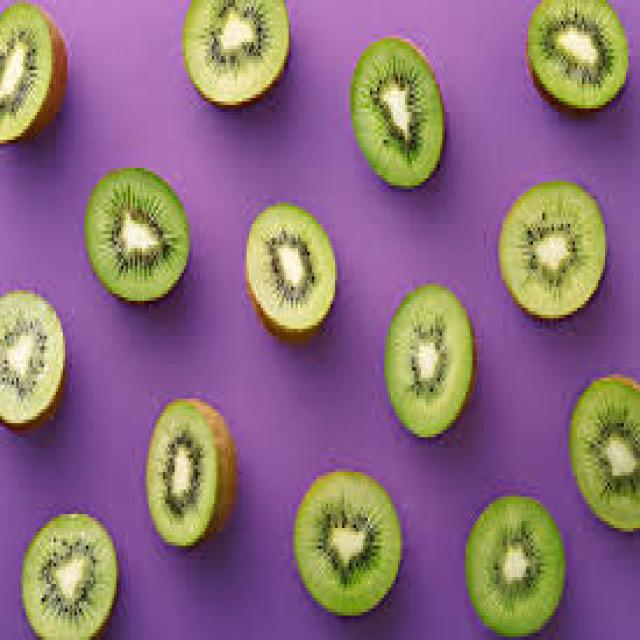kiwi: (288, 462, 409, 616), (347, 24, 449, 192), (142, 395, 247, 556), (84, 161, 202, 304), (461, 486, 570, 640), (498, 178, 610, 322), (242, 196, 342, 353), (379, 280, 477, 440), (558, 360, 640, 531), (16, 507, 121, 640), (524, 3, 633, 122), (177, 3, 295, 105), (2, 280, 70, 437), (2, 4, 74, 150)
